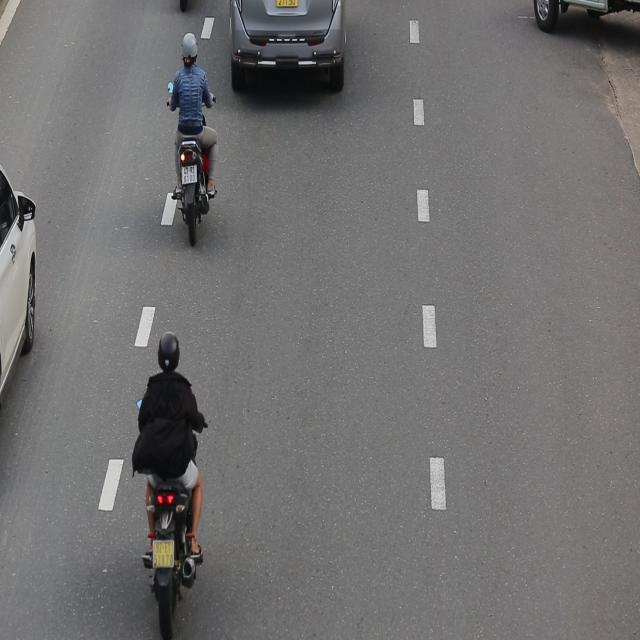motorbike: (131, 330, 208, 640), (164, 33, 220, 252)
